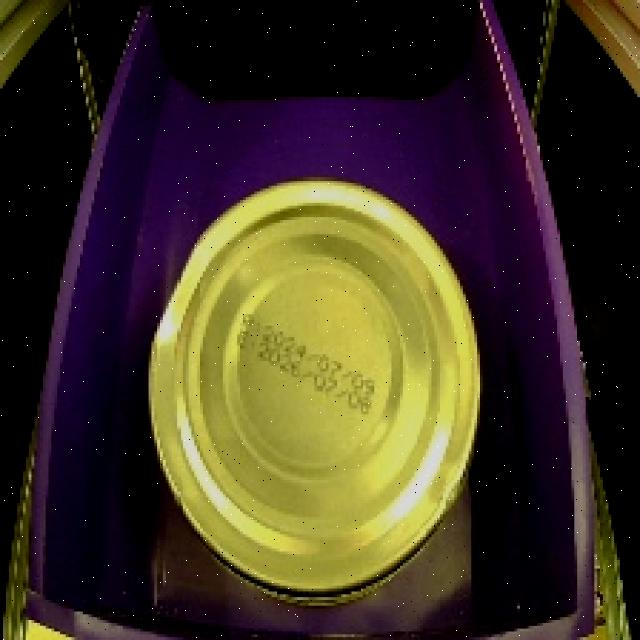metal: (131, 160, 500, 608)
